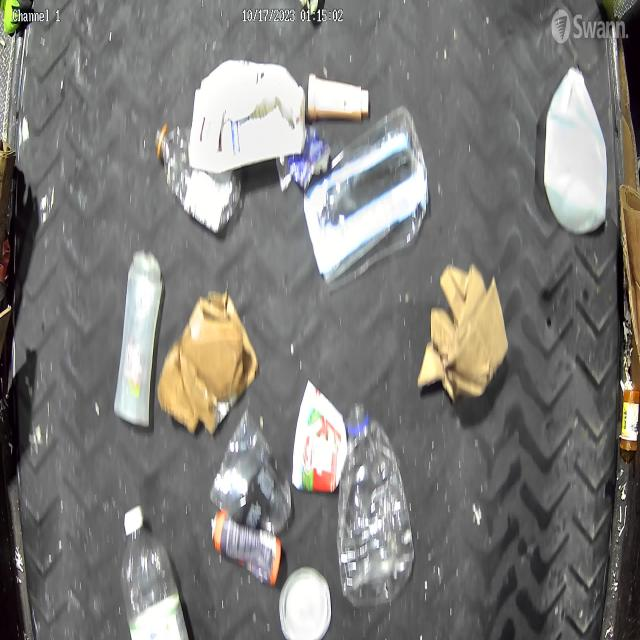milk-jug: (540, 58, 610, 250)
